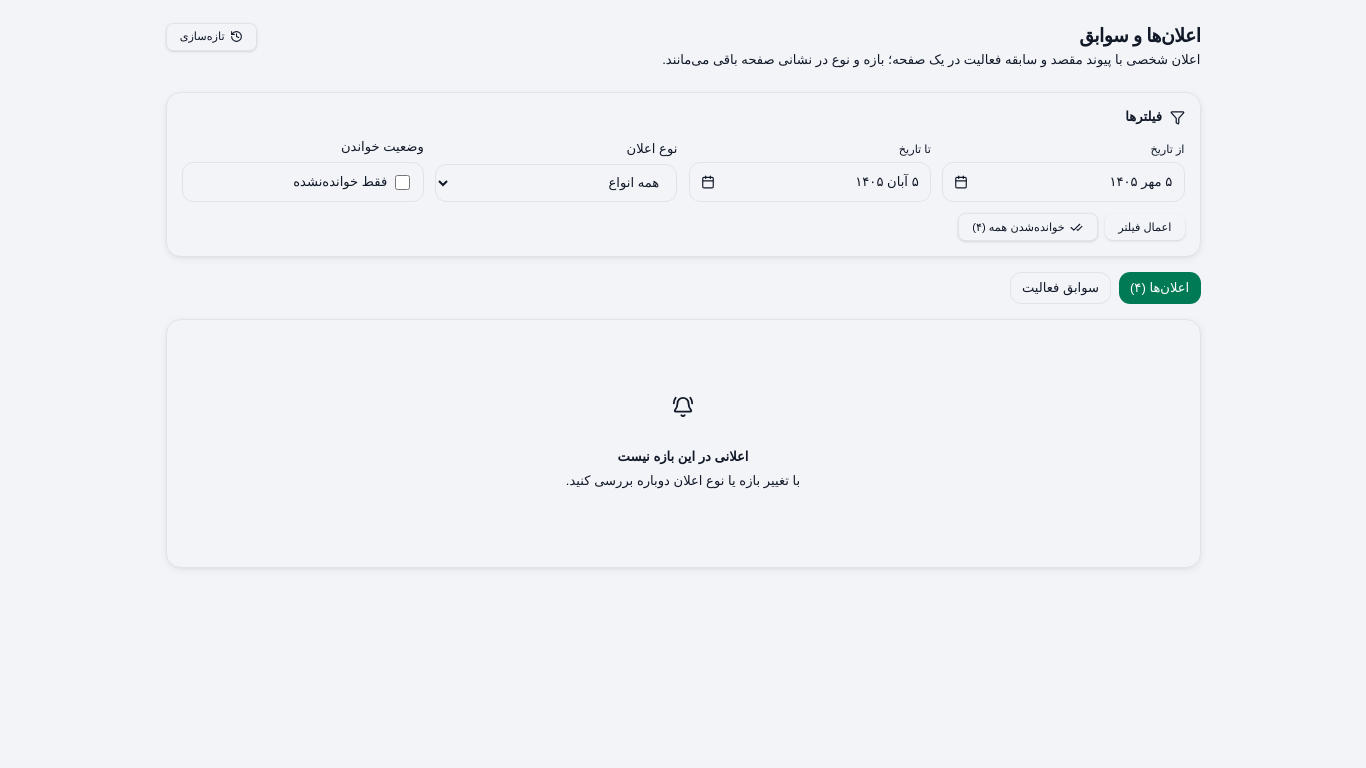
NotificationsRecordsPage filter bar › drops the date filters from the request when a date is cleared
This screenshot has width=1366, height=768.
Expected: the text "از تاریخ" is shown, [1150,143,1184,155]
Click the button "۵ مهر ۱۴۰۵".
click(1063, 182)  # box [942,162,1184,202]
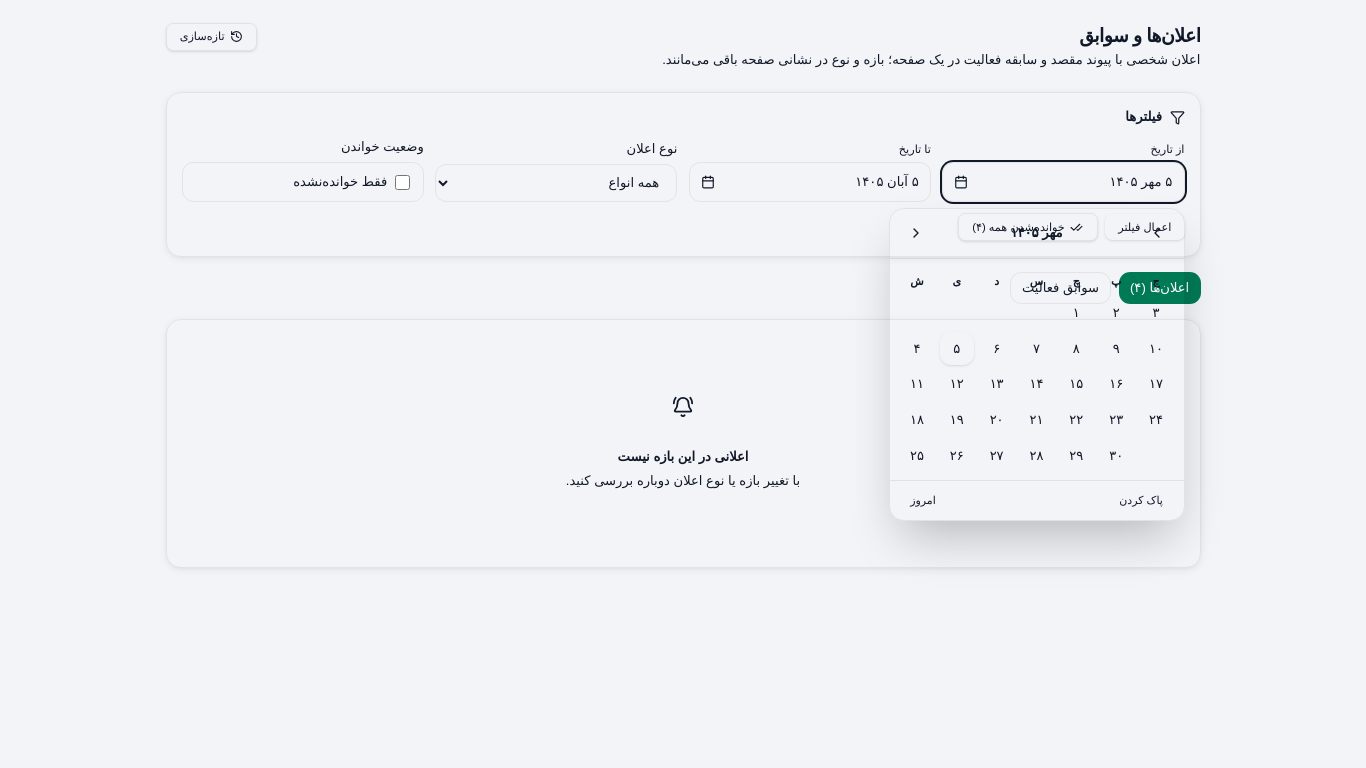
Click the button "پاک کردن".
click(1141, 500)  # box [1110,488,1172,512]
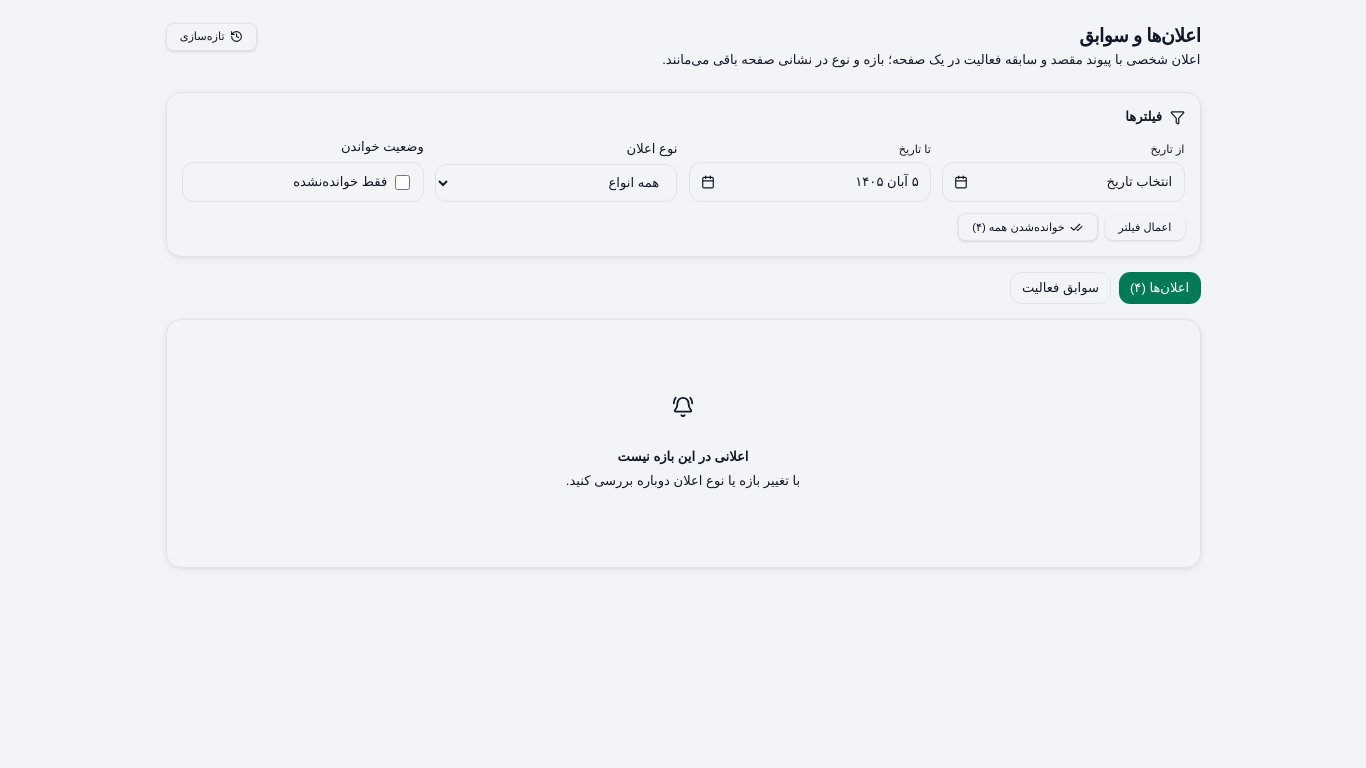
Result: the button "انتخاب تاریخ" is shown at [942,162,1184,202]
